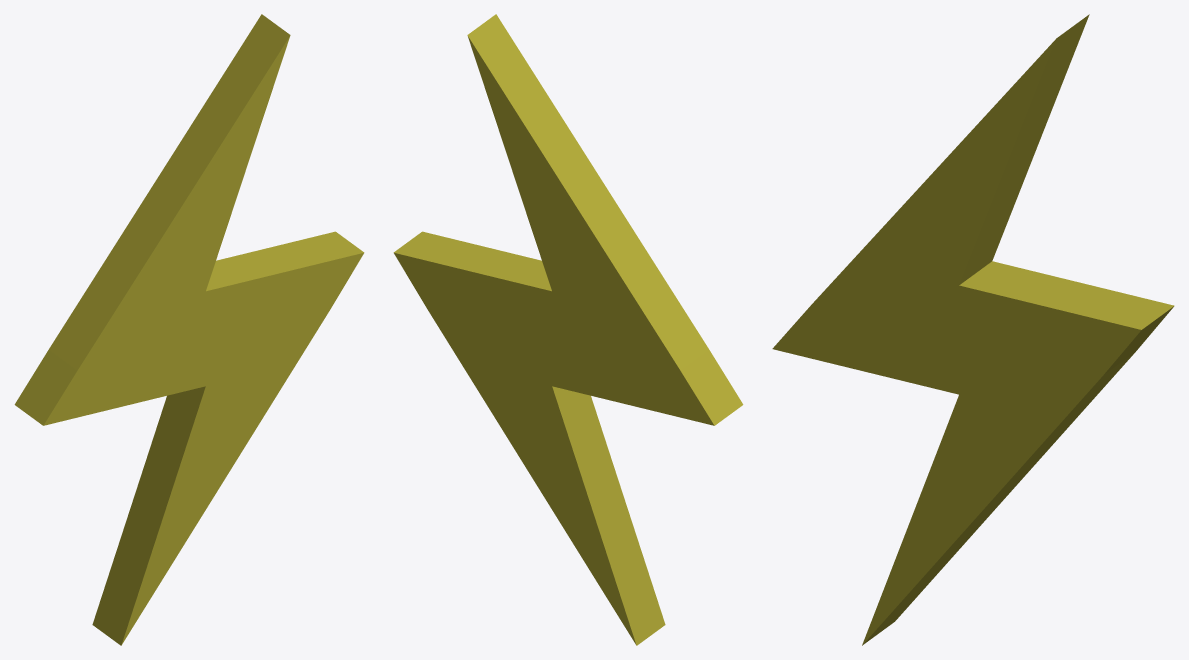
The model's file is energy.fbx.
3 renders of one model, left to right at view 1: azimuth 30°, elevation 25°; view 2: azimuth 150°, elevation 25°; view 3: azimuth 330°, elevation 25°, orthographic. The views are drawn at different scales.
Visible parts, largest first — view 1: Cube.001; view 2: Cube.001; view 3: Cube.001.
Boxes of the visible parts, bbox=[...] form: Cube.001: bbox=[14, 14, 364, 645]; Cube.001: bbox=[393, 14, 743, 645]; Cube.001: bbox=[772, 14, 1174, 645].
Size of the model in its own units: 74.19 by 126 by 11.54.
